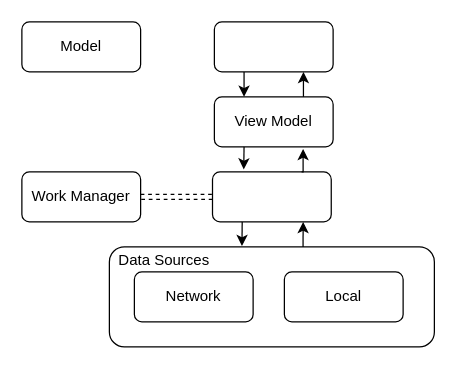
The diagram is 456 pixels wide and 369 high, and some of its shapes have lost their labels. Here are the shapes that lost their labels. From the top down, the box of each, then its label:
(213, 21, 333, 72): Screen
(211, 171, 331, 222): Repository
